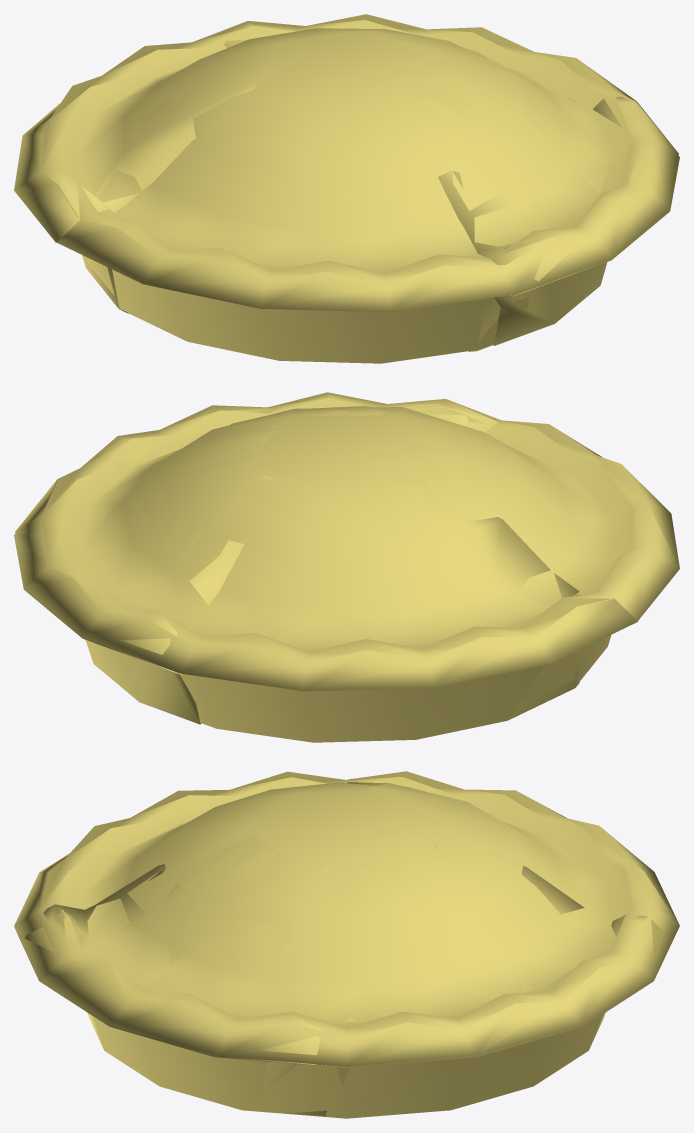
File: Pie.fbx
The picture shows the model from 3 angles, top to bottom: view 1: azimuth 30°, elevation 25°; view 2: azimuth 150°, elevation 25°; view 3: azimuth 270°, elevation 25°; orthographic projection.
Visible parts, largest first — view 1: Pie4/4, Pie3/4, Pie2/4, Pie1/4; view 2: Pie3/4, Pie4/4, Pie2/4, Pie1/4; view 3: Pie4/4, Pie3/4, Pie2/4, Pie1/4.
Boxes of the visible parts, box(x1,y1,x2,y2) form: Pie4/4: box(41, 14, 678, 363); Pie3/4: box(14, 14, 651, 313); Pie2/4: box(218, 23, 679, 345); Pie1/4: box(409, 62, 648, 351); Pie3/4: box(24, 392, 637, 742); Pie4/4: box(15, 392, 679, 705); Pie2/4: box(14, 394, 468, 724); Pie1/4: box(98, 409, 497, 468); Pie4/4: box(14, 771, 652, 1117); Pie3/4: box(43, 771, 679, 1038); Pie2/4: box(15, 844, 663, 1118); Pie1/4: box(39, 837, 346, 1116).
Bounding box in the file's own units: 18.08 × 5.45 × 18.08.
